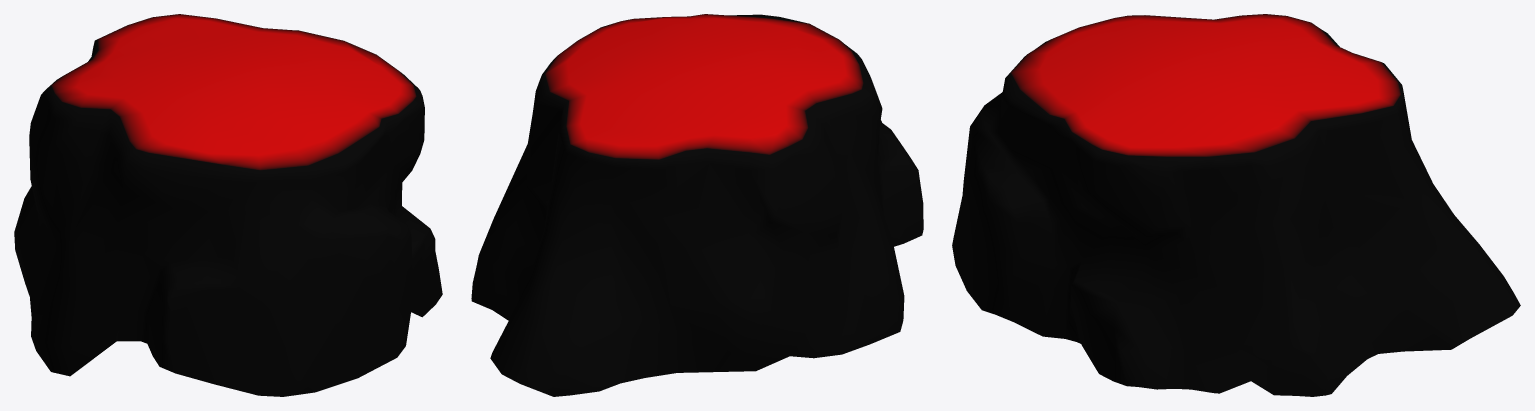
The model's file is Shitou_hill_01.fbx.
3 renders of one model, left to right at view 1: azimuth 30°, elevation 25°; view 2: azimuth 150°, elevation 25°; view 3: azimuth 270°, elevation 25°, orthographic. The views are drawn at different scales.
Visible parts, largest first — view 1: Shitou_hill_01_LOD0; view 2: Shitou_hill_01_LOD0; view 3: Shitou_hill_01_LOD0.
Boxes of the visible parts, x1,y1,x2,y2 form: Shitou_hill_01_LOD0: [14, 14, 442, 396]; Shitou_hill_01_LOD0: [471, 14, 923, 396]; Shitou_hill_01_LOD0: [952, 14, 1520, 396].
Size of the model in its own units: 362 by 219 by 461.
